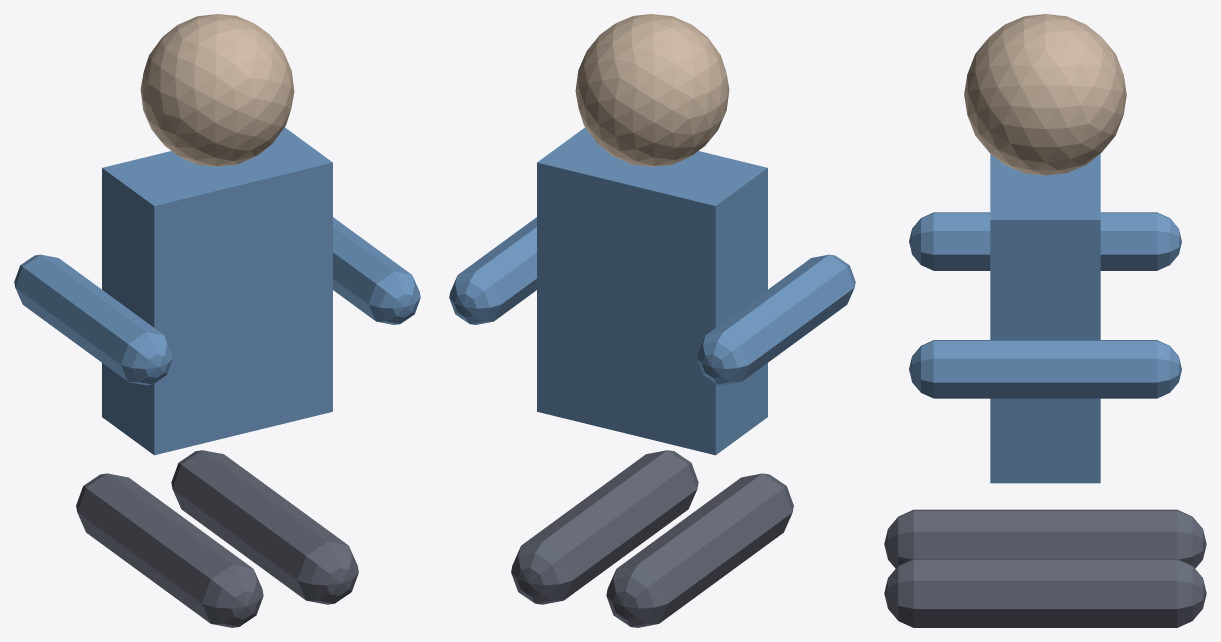
The model's file is humanoid_static.glb.
3 renders of one model, left to right at view 1: azimuth 30°, elevation 25°; view 2: azimuth 150°, elevation 25°; view 3: azimuth 270°, elevation 25°, orthographic. The views are drawn at different scales.
Parts seen in each view (by area): view 1: torso, head, leg_l, leg_r, arm_l, arm_r; view 2: torso, head, leg_l, leg_r, arm_l, arm_r; view 3: torso, leg_r, head, leg_l, arm_r, arm_l.
Part boxes in pixels (left/top/right/bottom): torso: left=102, top=127, right=332, bottom=455; head: left=140, top=14, right=294, bottom=166; leg_l: left=76, top=473, right=263, bottom=627; leg_r: left=171, top=450, right=358, bottom=604; arm_l: left=14, top=254, right=172, bottom=385; arm_r: left=333, top=217, right=420, bottom=324; torso: left=537, top=127, right=767, bottom=455; head: left=575, top=14, right=729, bottom=166; leg_l: left=606, top=473, right=793, bottom=627; leg_r: left=511, top=450, right=698, bottom=604; arm_l: left=697, top=254, right=855, bottom=385; arm_r: left=449, top=217, right=536, bottom=324; torso: left=990, top=154, right=1100, bottom=483; leg_r: left=884, top=558, right=1206, bottom=627; head: left=964, top=14, right=1126, bottom=175; leg_l: left=884, top=509, right=1206, bottom=568; arm_r: left=909, top=340, right=1181, bottom=398; arm_l: left=909, top=212, right=1181, bottom=270.
Size of the model in its own units: 1.25 by 2.21 by 1.11.
